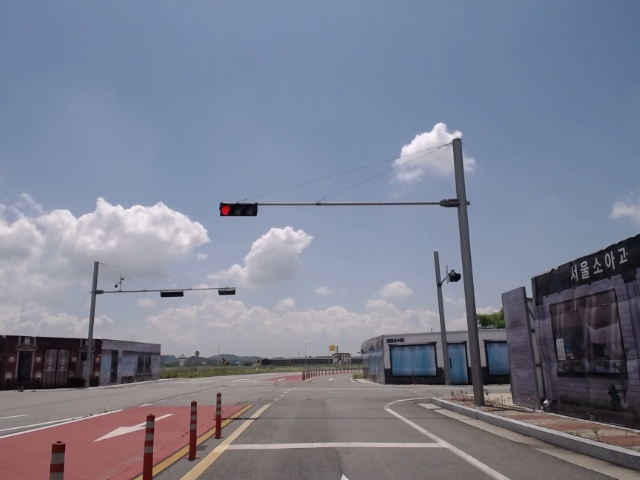red_3: (218, 201, 258, 217)
